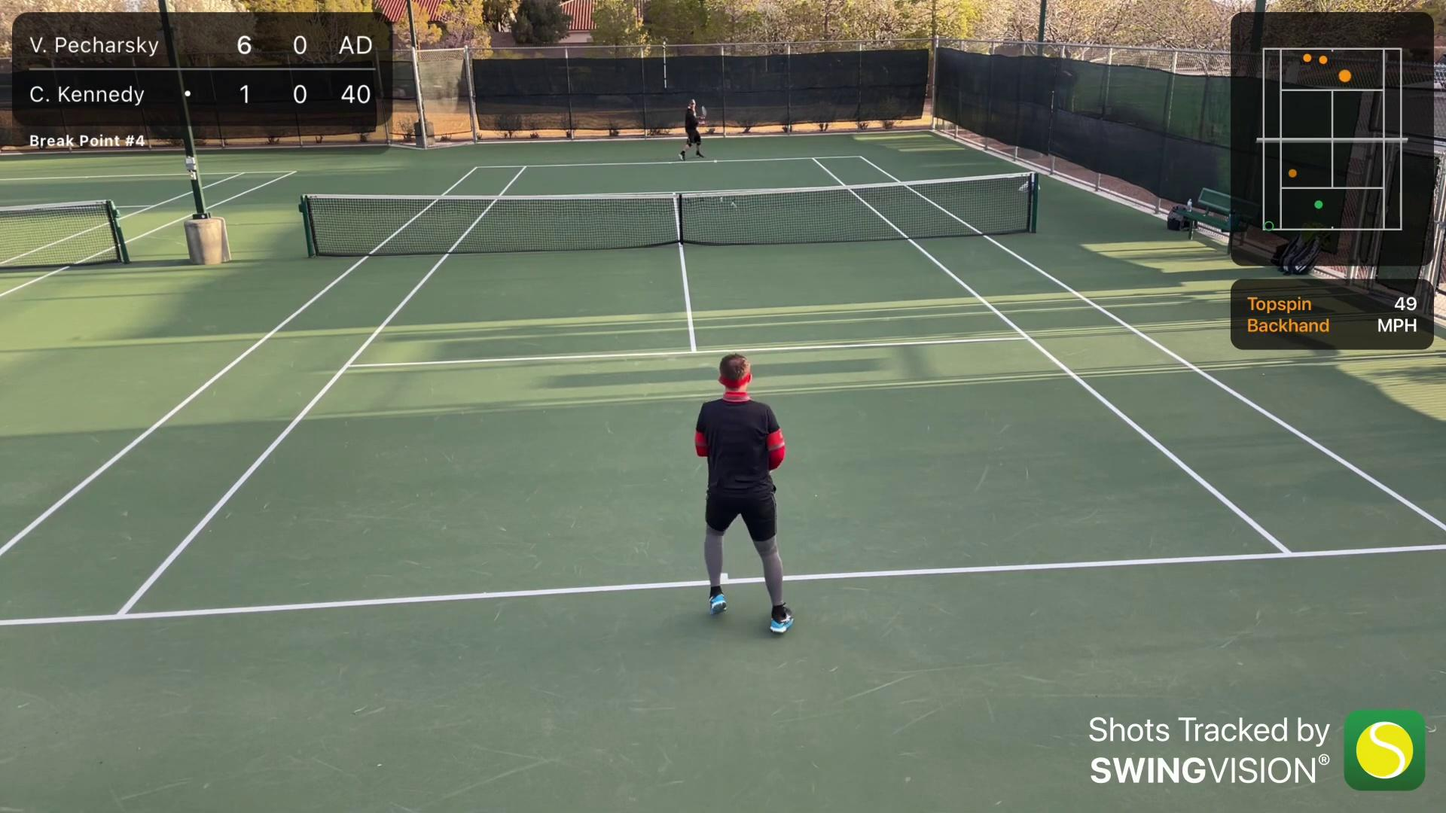ball: (713, 159, 718, 164)
